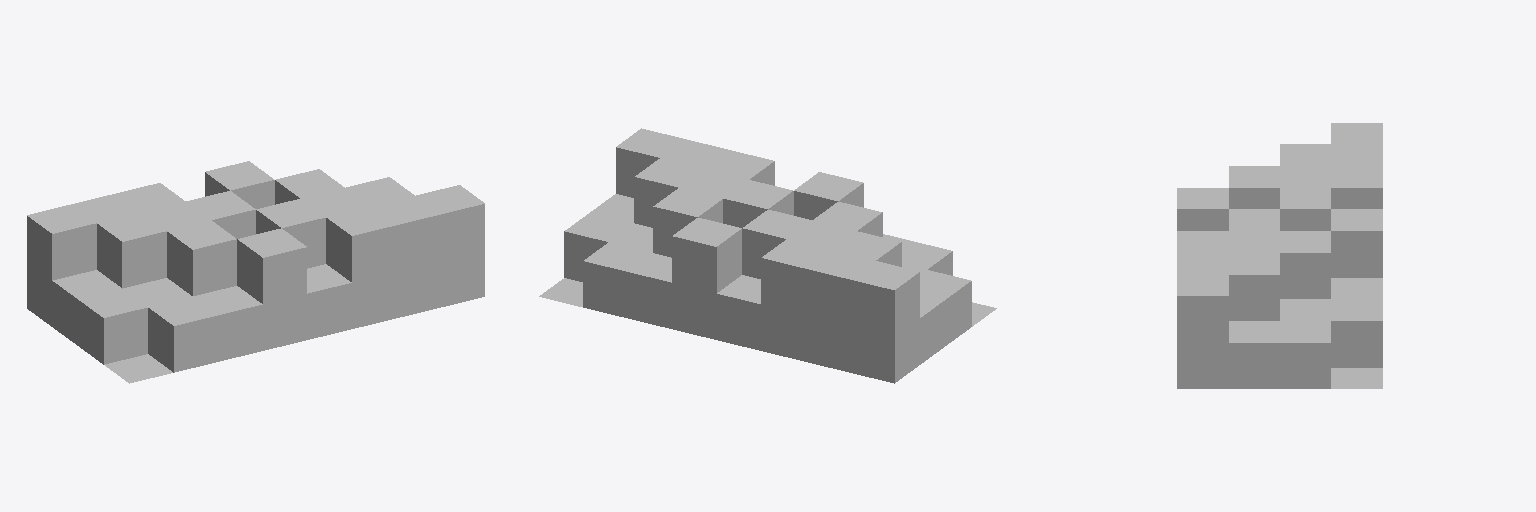
3 renders of one model, left to right at view 1: azimuth 30°, elevation 25°; view 2: azimuth 150°, elevation 25°; view 3: azimuth 270°, elevation 25°, orthographic.
Visible parts, largest first — view 1: Object(4,4)[length_2], Object(6,4)[length_2], Object(1,1)[length_2], Object(7,4)[length_2], Object(8,4)[length_2], Object(1,3)[length_1], Object(2,2)[length_2], Object(2,4)[length_1], Object(3,3)[length_2], Object(3,4)[length_1], Object(5,4)[length_1], Object(5,3)[length_2] (+11 smaller); view 2: Object(1,1)[length_2], Object(5,1)[length_2], Object(3,1)[length_2], Object(2,1)[length_2], Object(7,1)[length_1], Object(6,1)[length_1], Object(4,1)[length_1], Object(6,2)[length_2], Object(7,3)[length_2], Object(4,2)[length_2], Object(8,2)[length_1], Object(8,4)[length_2] (+14 smaller); view 3: Object(8,4)[length_2], Object(5,1)[length_2], Object(7,1)[length_1], Object(6,2)[length_2], Object(7,3)[length_2], Object(8,2)[length_1], Object(8,3)[length_1], Object(3,1)[length_2], Object(4,4)[length_2], Object(3,3)[length_2], Object(4,2)[length_2], Object(2,1)[length_2] (+10 smaller).
Boxes of the visible parts, <box> form: Object(4,4)[length_2]: <box>237,228,306,350</box>; Object(6,4)[length_2]: <box>326,207,395,328</box>; Object(1,1)[length_2]: <box>27,205,96,326</box>; Object(7,4)[length_2]: <box>371,196,440,317</box>; Object(8,4)[length_2]: <box>416,185,484,306</box>; Object(1,3)[length_1]: <box>78,289,147,364</box>; Object(2,2)[length_2]: <box>97,212,166,288</box>; Object(2,4)[length_1]: <box>148,297,217,372</box>; Object(3,3)[length_2]: <box>167,220,236,295</box>; Object(3,4)[length_1]: <box>193,286,262,361</box>; Object(5,4)[length_1]: <box>307,264,351,339</box>; Object(5,3)[length_2]: <box>256,199,325,268</box>; Object(1,1)[length_2]: <box>850,261,919,383</box>; Object(5,1)[length_2]: <box>672,218,741,339</box>; Object(3,1)[length_2]: <box>761,239,830,361</box>; Object(2,1)[length_2]: <box>806,250,874,372</box>; Object(7,1)[length_1]: <box>583,242,652,317</box>; Object(6,1)[length_1]: <box>628,253,671,328</box>; Object(4,1)[length_1]: <box>717,275,760,350</box>; Object(6,2)[length_2]: <box>653,188,722,257</box>; Object(7,3)[length_2]: <box>634,158,703,227</box>; Object(4,2)[length_2]: <box>742,210,811,278</box>; Object(8,2)[length_1]: <box>564,213,633,281</box>; Object(8,4)[length_2]: <box>616,128,684,197</box>; Object(8,4)[length_2]: <box>1177,275,1228,388</box>; Object(5,1)[length_2]: <box>1331,209,1382,277</box>; Object(7,1)[length_1]: <box>1331,299,1382,367</box>; Object(6,2)[length_2]: <box>1280,231,1330,298</box>; Object(7,3)[length_2]: <box>1229,253,1279,320</box>; Object(8,2)[length_1]: <box>1280,321,1330,388</box>; Object(8,3)[length_1]: <box>1229,321,1279,388</box>; Object(3,1)[length_2]: <box>1331,166,1382,208</box>; Object(4,4)[length_2]: <box>1177,188,1228,230</box>; Object(3,3)[length_2]: <box>1229,166,1279,208</box>; Object(4,2)[length_2]: <box>1280,188,1330,230</box>; Object(2,1)[length_2]: <box>1331,144,1382,165</box>.
Bounding box in the file's own units: 8 × 2 × 4.